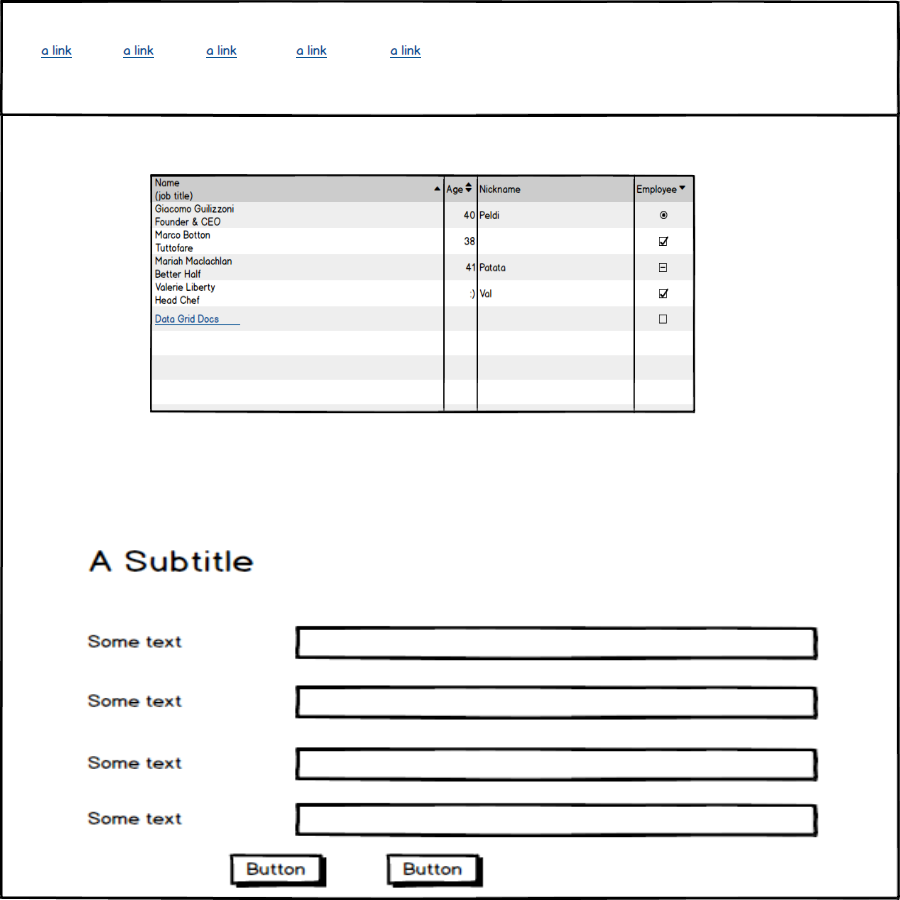button: (226, 849, 328, 895), (385, 849, 487, 891)
h1: (76, 545, 263, 584)
input: (292, 677, 824, 723), (293, 741, 826, 786), (294, 797, 828, 841), (294, 622, 824, 664)
label: (79, 626, 192, 662), (85, 688, 192, 717), (85, 806, 190, 834), (87, 751, 186, 775)
navlink: (41, 38, 76, 64), (122, 40, 156, 66), (293, 38, 328, 63), (386, 40, 430, 59), (204, 40, 238, 64)
table: (149, 173, 700, 417)
